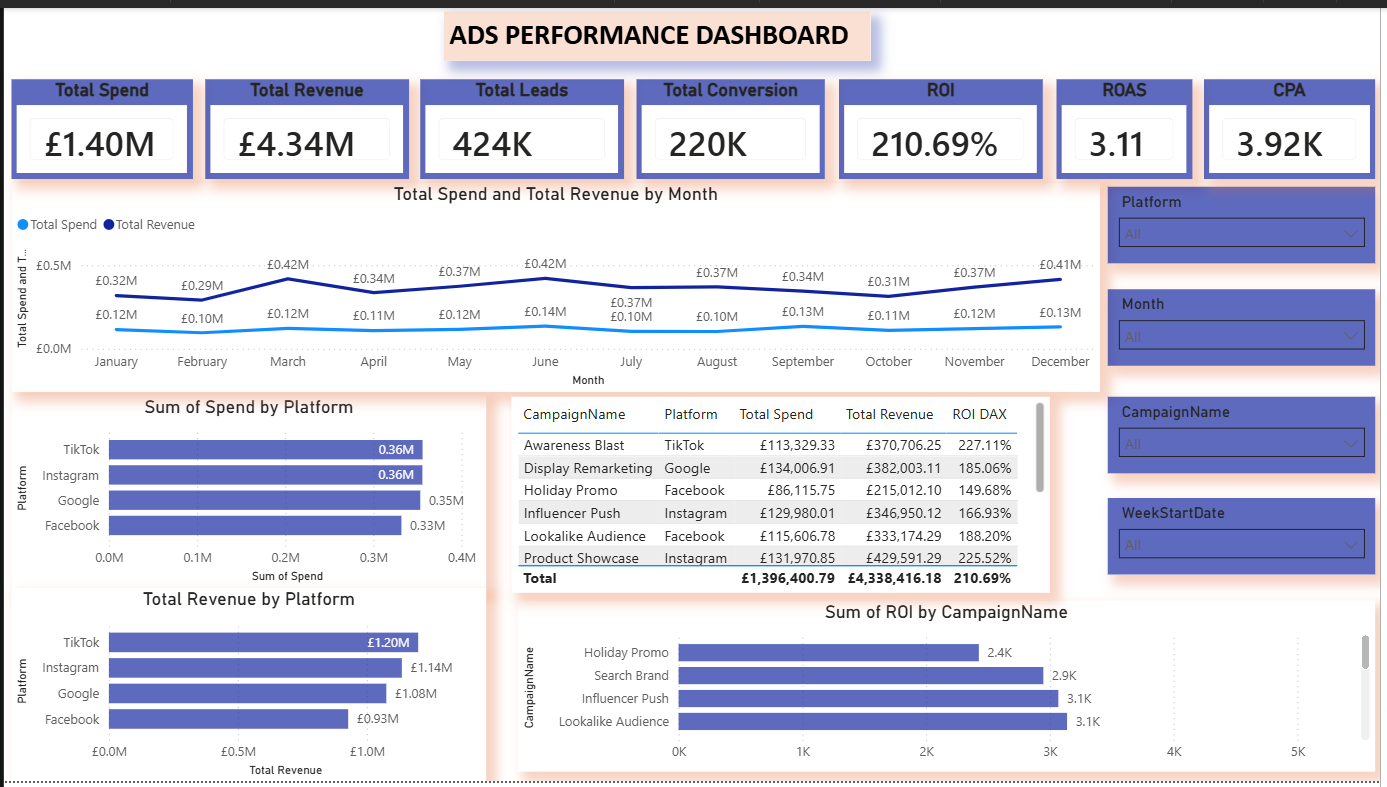

The page's visual inventory and layout, read from the dashboard file:
{"tool":"powerbi","page":{"name":"Page 1","canvas":[1280,720],"ordinal":0},"visuals":[{"type":"cardVisual","title":"Total Spend","fields":{"Data":["AdsPerformance Data.Total Spend"]},"box":[7,66.3,168.6,93],"z":0},{"type":"cardVisual","title":"Total Revenue","fields":{"Data":["AdsPerformance Data.Total Revenue"]},"box":[187.2,66.3,189.5,93],"z":1000},{"type":"cardVisual","title":"Total Leads","fields":{"Data":["Sum(AdsPerformance Data.LeadsGenerated)"]},"box":[387.2,66.3,189.5,93],"z":2000},{"type":"cardVisual","title":"Total Conversion","fields":{"Data":["Sum(AdsPerformance Data.Conversions)"]},"box":[588.4,66.3,175.6,93],"z":3000},{"type":"cardVisual","title":"ROI","fields":{"Data":["AdsPerformance Data.ROI DAX"]},"box":[776.7,66.3,189.5,93],"z":4000},{"type":"cardVisual","title":"ROAS","fields":{"Data":["AdsPerformance Data.ROAS DAX"]},"box":[979.1,66.3,126.7,93],"z":5000},{"type":"clusteredBarChart","fields":{"Category":["AdsPerformance Data.Platform"],"Y":["Sum(AdsPerformance Data.Spend)"]},"box":[7,360.5,441.9,179.1],"z":6000},{"type":"clusteredBarChart","fields":{"Category":["AdsPerformance Data.Platform"],"Y":["AdsPerformance Data.Total Revenue"]},"box":[7,539.5,441.9,180.2],"z":7000},{"type":"lineChart","fields":{"Category":["AdsPerformance Data.WeekStartDate.Variation.Date Hierarchy.Month"],"Y":["AdsPerformance Data.Total Spend","AdsPerformance Data.Total Revenue"]},"box":[7,162.8,1012.8,194.2],"z":8000},{"type":"barChart","fields":{"Category":["AdsPerformance Data.CampaignName"],"Y":["Sum(AdsPerformance Data.ROI)"]},"box":[477.9,551.2,797.7,159.3],"z":9000},{"type":"tableEx","fields":{"Values":["AdsPerformance Data.CampaignName","AdsPerformance Data.Platform","AdsPerformance Data.Total Spend","AdsPerformance Data.Total Revenue","AdsPerformance Data.ROI DAX"]},"box":[472.1,361.6,501.2,182.6],"z":10000},{"type":"slicer","fields":{"Values":["AdsPerformance Data.Platform"]},"box":[1026.7,166.3,248.8,70.9],"z":11000},{"type":"slicer","fields":{"Values":["AdsPerformance Data.Month"]},"box":[1026.7,261.6,248.8,70.9],"z":12000},{"type":"slicer","fields":{"Values":["AdsPerformance Data.CampaignName"]},"box":[1026.7,361.6,248.8,70.9],"z":13000},{"type":"slicer","fields":{"Values":["AdsPerformance Data.WeekStartDate"]},"box":[1026.7,455.8,248.8,70.9],"z":14000},{"type":"textbox","box":[409.3,3.5,396.5,45.3],"z":15000},{"type":"cardVisual","title":"CPA","fields":{"Data":["Sum(AdsPerformance Data.CPA)"]},"box":[1116.3,66.3,159.3,93],"z":16000}]}

Visuals, with their boxes in screenshot pixels (x1, y1, x2, y2), scaled from the page's 1280x720 canvas onto the 1387x787 screenshot:
"Total Spend" cardVisual: {"left": 8, "top": 72, "right": 190, "bottom": 174}
"Total Revenue" cardVisual: {"left": 203, "top": 72, "right": 408, "bottom": 174}
"Total Leads" cardVisual: {"left": 420, "top": 72, "right": 625, "bottom": 174}
"Total Conversion" cardVisual: {"left": 638, "top": 72, "right": 828, "bottom": 174}
"ROI" cardVisual: {"left": 842, "top": 72, "right": 1047, "bottom": 174}
"ROAS" cardVisual: {"left": 1061, "top": 72, "right": 1198, "bottom": 174}
clusteredBarChart - AdsPerformance Data.Platform x Sum(AdsPerformance Data.Spend): {"left": 8, "top": 394, "right": 486, "bottom": 590}
clusteredBarChart - AdsPerformance Data.Platform x AdsPerformance Data.Total Revenue: {"left": 8, "top": 590, "right": 486, "bottom": 786}
lineChart - AdsPerformance Data.WeekStartDate.Variation.Date Hierarchy.Month x AdsPerformance Data.Total Spend: {"left": 8, "top": 178, "right": 1105, "bottom": 390}
barChart - AdsPerformance Data.CampaignName x Sum(AdsPerformance Data.ROI): {"left": 518, "top": 602, "right": 1382, "bottom": 777}
tableEx - AdsPerformance Data.CampaignName x AdsPerformance Data.Platform: {"left": 512, "top": 395, "right": 1055, "bottom": 595}
slicer - AdsPerformance Data.Platform: {"left": 1113, "top": 182, "right": 1382, "bottom": 259}
slicer - AdsPerformance Data.Month: {"left": 1113, "top": 286, "right": 1382, "bottom": 363}
slicer - AdsPerformance Data.CampaignName: {"left": 1113, "top": 395, "right": 1382, "bottom": 473}
slicer - AdsPerformance Data.WeekStartDate: {"left": 1113, "top": 498, "right": 1382, "bottom": 576}
textbox: {"left": 444, "top": 4, "right": 873, "bottom": 53}
"CPA" cardVisual: {"left": 1210, "top": 72, "right": 1382, "bottom": 174}
